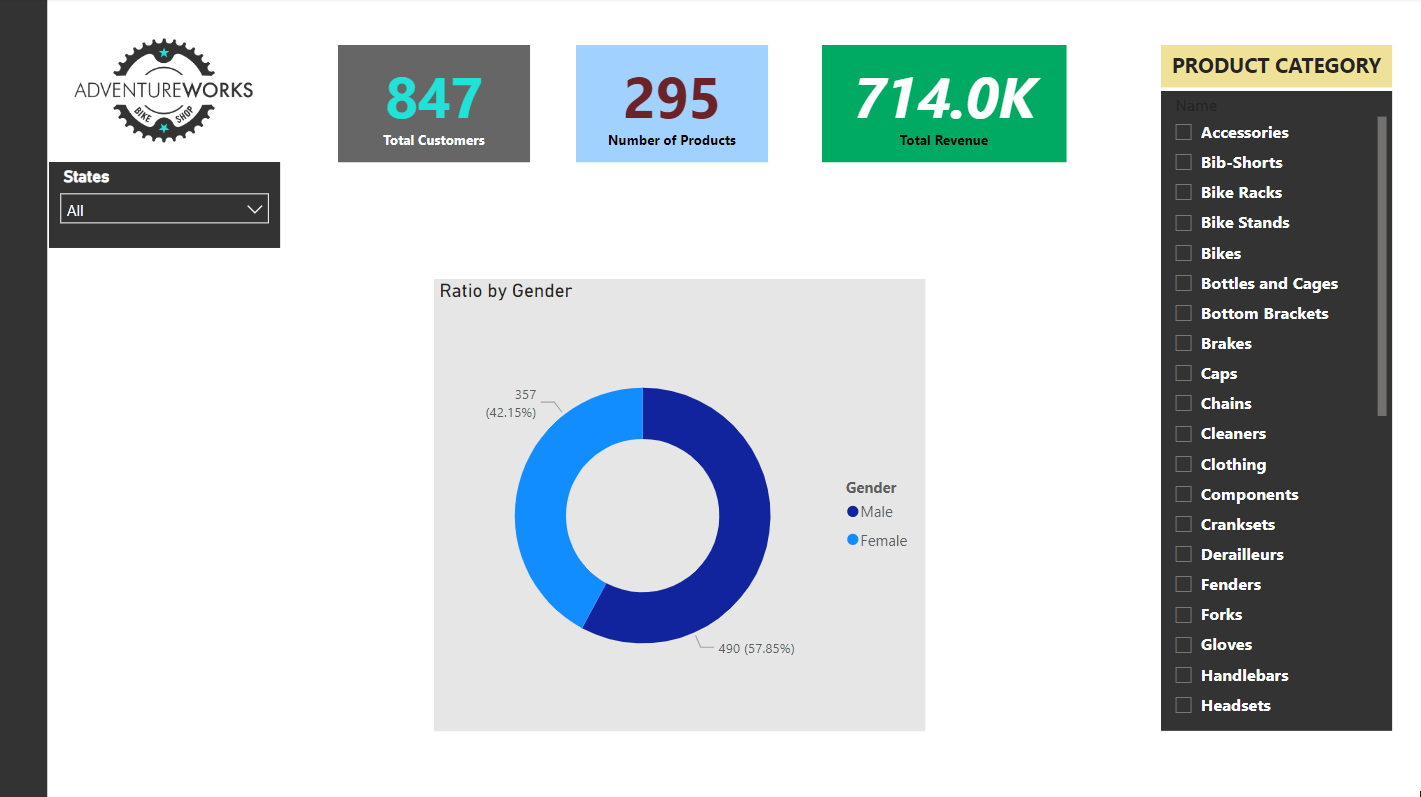

What the dashboard file says about the page in this screenshot:
{"tool":"powerbi","page":{"name":"Page 1","canvas":[1280,720],"ordinal":0},"visuals":[{"type":"card","fields":{"Values":["CountNonNull(Customer.Customer_ID)"]},"box":[305,42.1,171.9,104.8],"z":0},{"type":"image","title":"AW","box":[46.6,18.8,206,128.1],"z":1},{"type":"shape","title":"Left Nav Background","box":[0,0,45,720],"z":2},{"type":"card","fields":{"Values":["CountNonNull(Product.Product_ID)"]},"box":[518.5,42.1,171.9,104.8],"z":4},{"type":"slicer","fields":{"Values":["ProductCategory.Name"]},"box":[1042.4,83.3,206.9,573.1],"z":5},{"type":"textbox","box":[1042.4,42.1,206.9,37.6],"z":6},{"type":"card","fields":{"Values":["Sum(SalesOrderDetail.Total_Order_Price)"]},"box":[738.8,42.1,218.5,104.8],"z":7},{"type":"slicer","fields":{"Values":["Address.State_Province"]},"box":[46.6,146.9,206.9,77],"z":8},{"type":"donutChart","fields":{"Category":["Customer.Gender"],"Y":["CountNonNull(Customer.Gender)"]},"box":[391.3,251.6,439.7,404.8],"z":9}]}

Visuals, with their boxes in screenshot pixels (x1, y1, x2, y2):
card - CountNonNull(Customer.Customer_ID): 326:40:520:159
"AW" image: 34:14:267:159
"Left Nav Background" shape: 0:0:32:796
card - CountNonNull(Product.Product_ID): 567:40:762:159
slicer - ProductCategory.Name: 1159:87:1393:734
textbox: 1159:40:1393:83
card - Sum(SalesOrderDetail.Total_Order_Price): 816:40:1063:159
slicer - Address.State_Province: 34:159:268:246
donutChart - Customer.Gender x CountNonNull(Customer.Gender): 424:277:920:734
